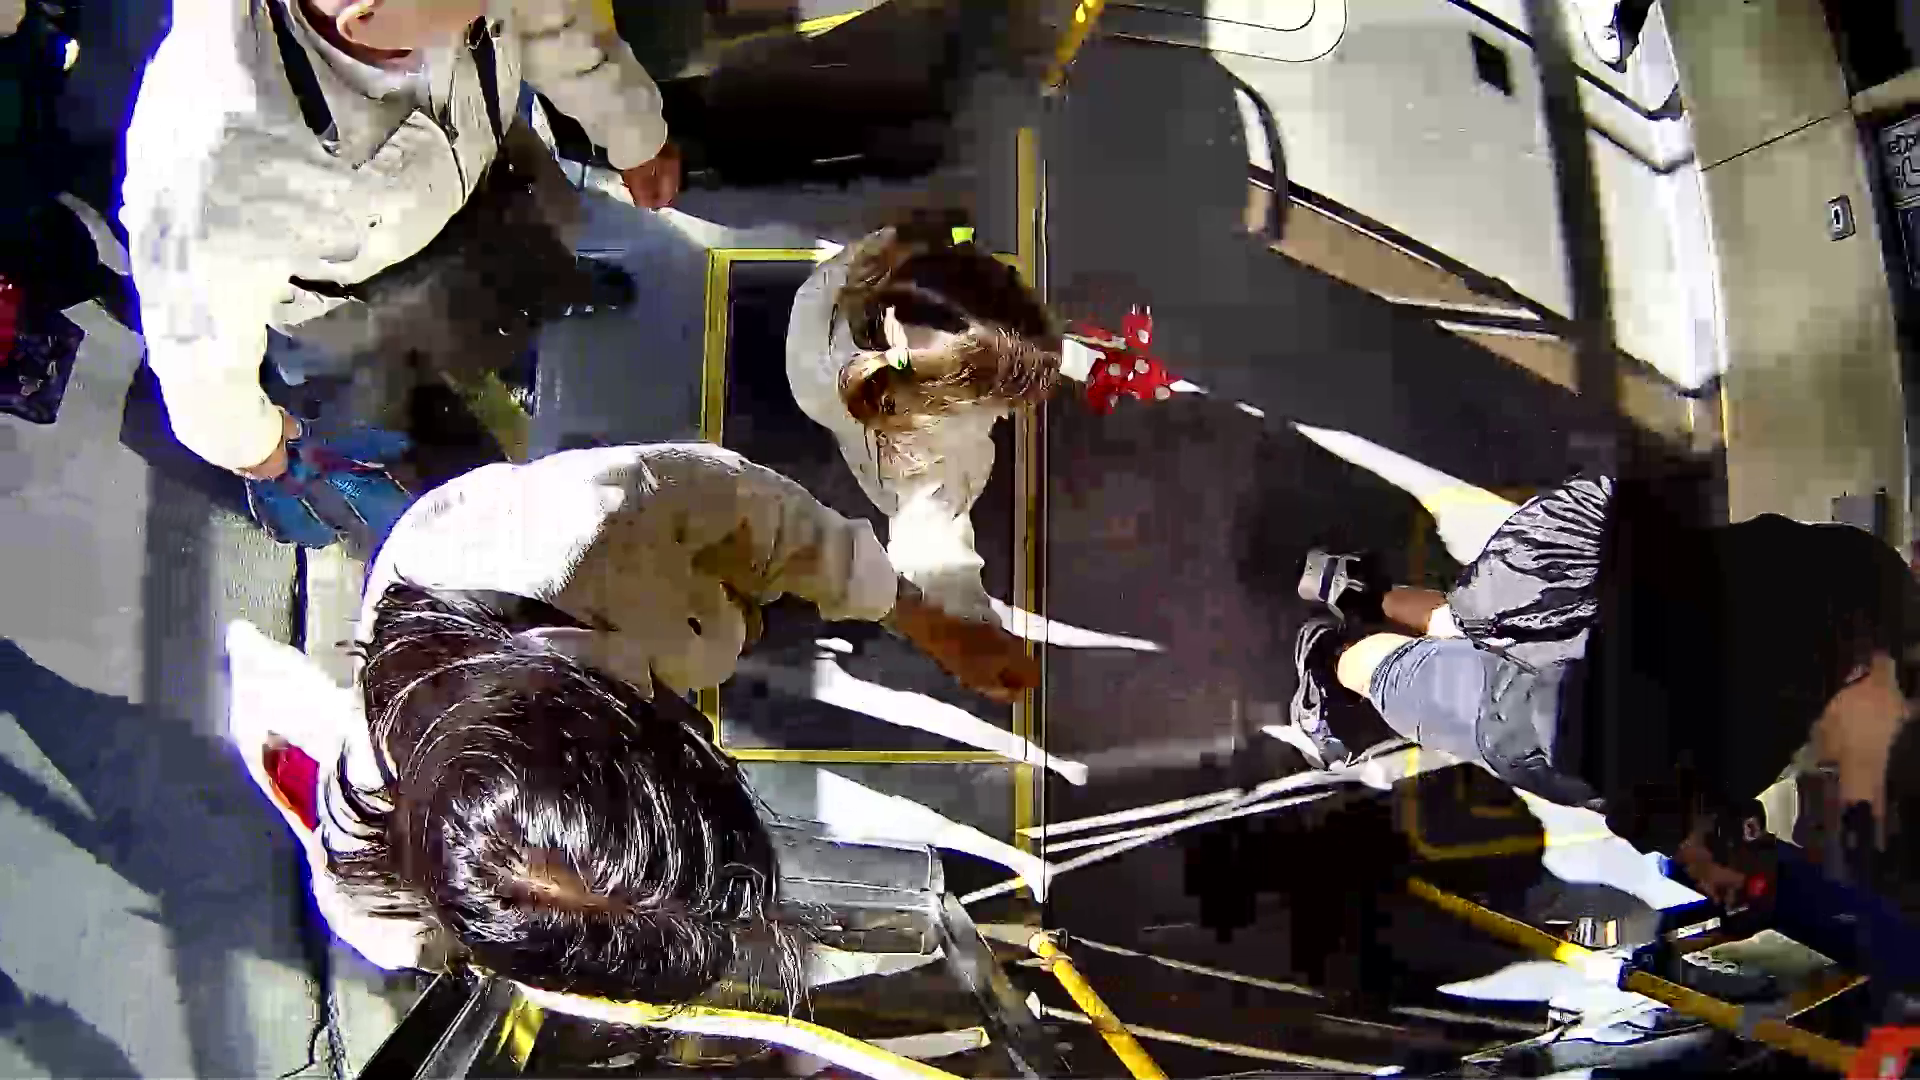person: (271, 418, 1011, 965), (739, 199, 1302, 674)
